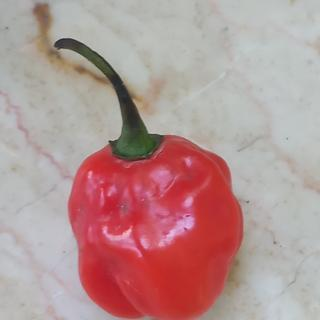Grade-B: (60, 125, 246, 318)
